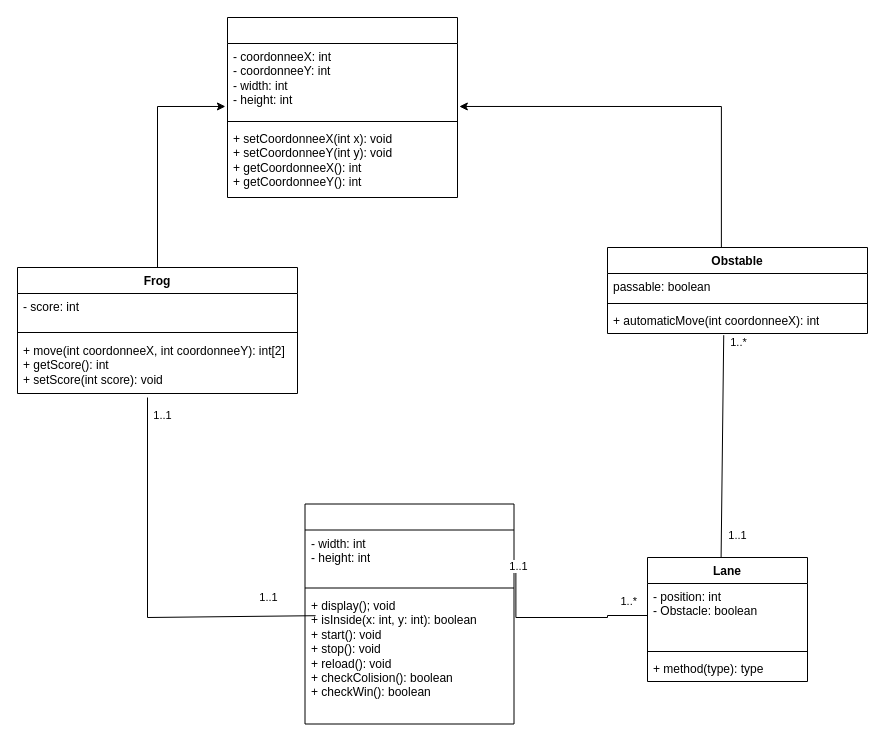
This 885x744 diagram has some shape labels left out. Each missing label, with the box of its shape:
ABSTRACT: Entity: (226, 16, 458, 198)
GameMap: (304, 503, 514, 724)
